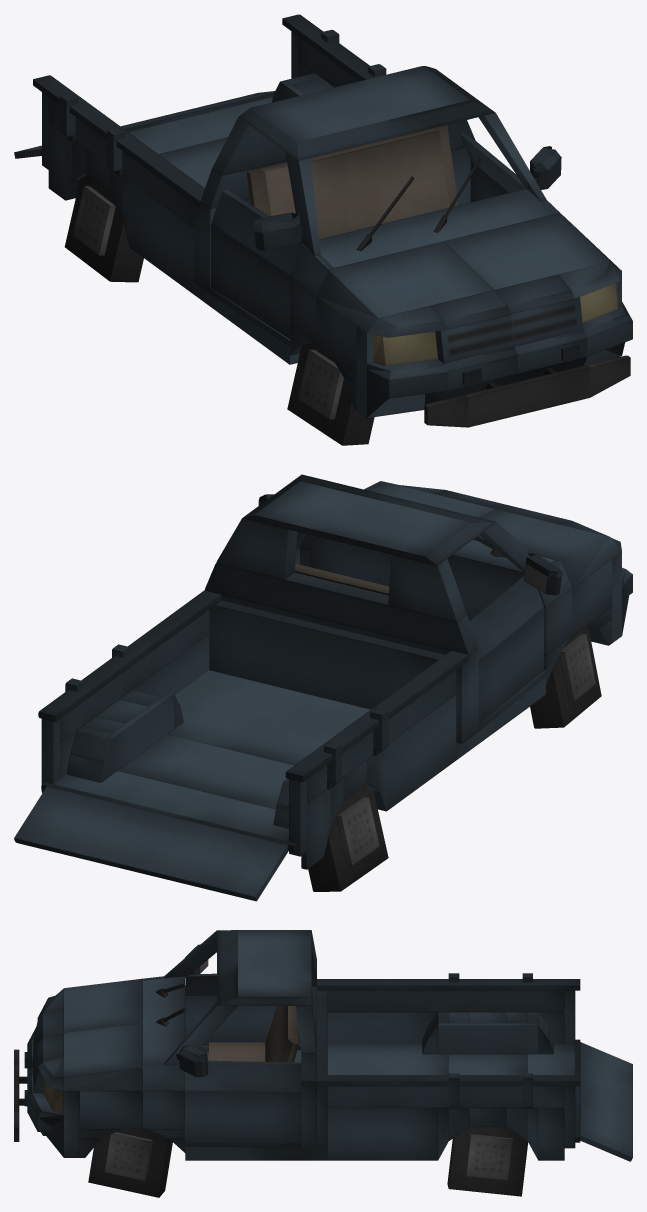
File: truck_wreckage2.obj
The picture shows the model from 3 angles, top to bottom: view 1: azimuth 30°, elevation 25°; view 2: azimuth 150°, elevation 25°; view 3: azimuth 270°, elevation 25°; orthographic projection. The views are drawn at different scales.
Visible parts, largest first — view 1: bodyModel82, bodyModel142, bodyModel63, bodyModel71, bodyModel80, bodyModel122, bodyModel58, bodyModel3, bodyModel15, bodyModel133, bodyModel14, bodyModel131 (+48 smaller); view 2: bodyModel13, bodyModel8, bodyModel82, bodyModel48, bodyModel128, bodyModel49, bodyModel80, bodyModel14, bodyModel58, bodyModel63, bodyModel122, bodyModel100 (+29 smaller); view 3: bodyModel82, bodyModel126, bodyModel45, bodyModel51, bodyModel13, bodyModel71, bodyModel9, bodyModel63, bodyModel48, bodyModel58, bodyModel127, bodyModel61 (+45 smaller).
Boxes of the visible parts, box(x1,y1,x2,y2) form: bodyModel82: box(239, 66, 495, 160); bodyModel142: box(258, 128, 449, 239); bodyModel63: box(316, 241, 494, 332); bodyModel71: box(444, 213, 621, 289); bodyModel80: box(319, 189, 553, 267); bodyModel122: box(211, 224, 289, 338); bodyModel58: box(129, 180, 199, 298); bodyModel3: box(465, 365, 589, 427); bodyModel15: box(33, 75, 204, 207); bodyModel133: box(64, 174, 143, 282); bodyModel14: box(128, 97, 272, 153); bodyModel131: box(287, 342, 374, 445); bodyModel13: box(14, 786, 288, 901); bodyModel8: box(209, 600, 468, 743); bodyModel82: box(242, 474, 496, 565); bodyModel48: box(167, 670, 370, 765); bodyModel128: box(205, 563, 478, 654); bodyModel49: box(118, 734, 294, 809); bodyModel80: box(310, 535, 554, 620); bodyModel14: box(53, 771, 288, 841); bodyModel58: box(386, 694, 456, 810); bodyModel63: box(473, 509, 621, 587); bodyModel122: box(478, 608, 544, 724); bodyModel100: box(38, 590, 221, 721); bodyModel82: box(217, 930, 311, 1005); bodyModel126: box(185, 1090, 301, 1144); bodyModel45: box(327, 1108, 438, 1160); bodyModel51: box(327, 990, 564, 1012); bodyModel13: box(579, 1042, 632, 1161); bodyModel71: box(64, 1023, 142, 1091); bodyModel9: box(327, 1086, 564, 1107); bodyModel63: box(64, 978, 142, 1032); bodyModel48: box(327, 1044, 448, 1074); bodyModel58: box(327, 1012, 438, 1044); bodyModel127: box(185, 1060, 301, 1093); bodyModel61: box(438, 1023, 538, 1054).
Size of the model in its own units: 3.28 by 2.45 by 7.34.
1 material, 1 textured.
